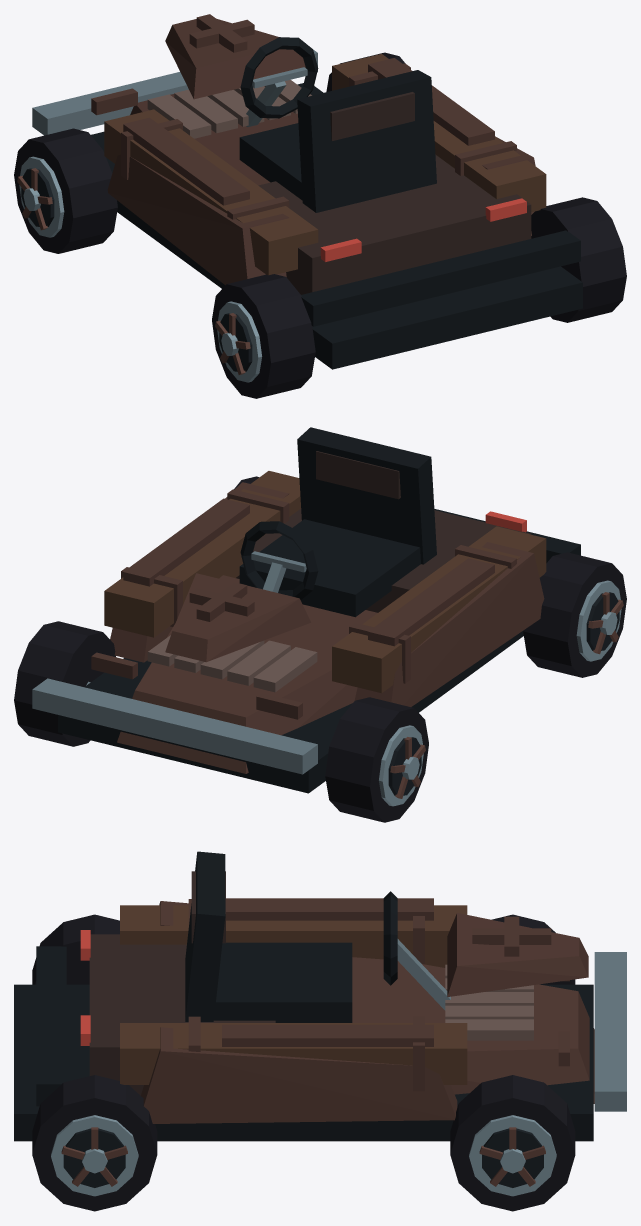
Rendered from kart.glb.
The picture shows the model from 3 angles, top to bottom: view 1: azimuth 30°, elevation 25°; view 2: azimuth 150°, elevation 25°; view 3: azimuth 270°, elevation 25°; orthographic projection. The views are drawn at different scales.
Visible parts, largest first — view 1: chassis, wheel-rear-left, wheel-front-left, wheel-rear-right; view 2: chassis, wheel-front-left, wheel-rear-left, wheel-front-right; view 3: chassis, wheel-front-right, wheel-rear-right, wheel-rear-left.
Boxes of the visible parts, bbox=[...] form: chassis: bbox=[32, 14, 582, 369]; wheel-rear-left: bbox=[212, 274, 315, 398]; wheel-front-left: bbox=[14, 128, 117, 253]; wheel-rear-right: bbox=[531, 197, 626, 322]; chassis: bbox=[32, 427, 580, 793]; wheel-front-left: bbox=[325, 697, 428, 822]; wheel-rear-left: bbox=[523, 552, 626, 677]; wheel-front-right: bbox=[14, 621, 115, 746]; chassis: bbox=[14, 851, 626, 1141]; wheel-front-right: bbox=[450, 1075, 575, 1211]; wheel-rear-right: bbox=[32, 1075, 157, 1211]; wheel-rear-left: bbox=[32, 914, 119, 984].
Size of the model in its own units: 2.32 by 1.3 by 3.03.
